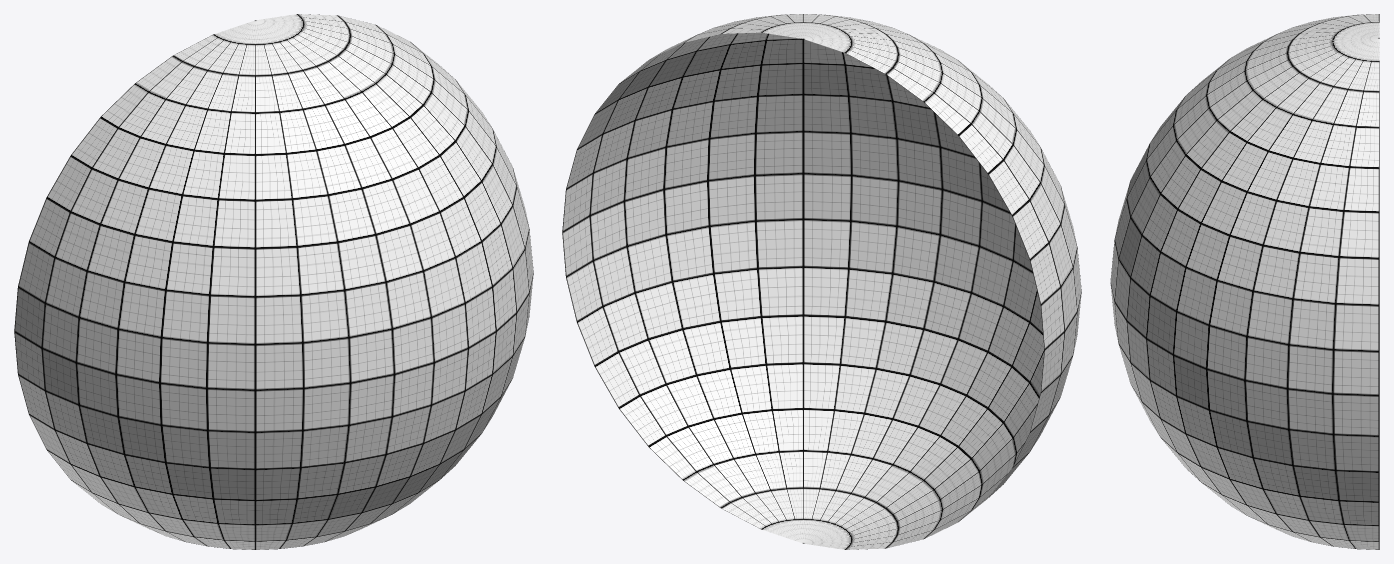
File: stereonetModelTexture.fbx
3 renders of one model, left to right at view 1: azimuth 30°, elevation 25°; view 2: azimuth 150°, elevation 25°; view 3: azimuth 270°, elevation 25°, orthographic. The views are drawn at different scales.
Parts seen in each view (by area): view 1: Sphere; view 2: Sphere; view 3: Sphere.
Boxes of the visible parts, x1=… form: Sphere: x1=14, y1=14, x2=533, y2=549; Sphere: x1=562, y1=14, x2=1081, y2=549; Sphere: x1=1110, y1=14, x2=1379, y2=549.
Bounding box in the file's own units: 200 × 200 × 100.
Materials: 1 (1 with a texture image).
